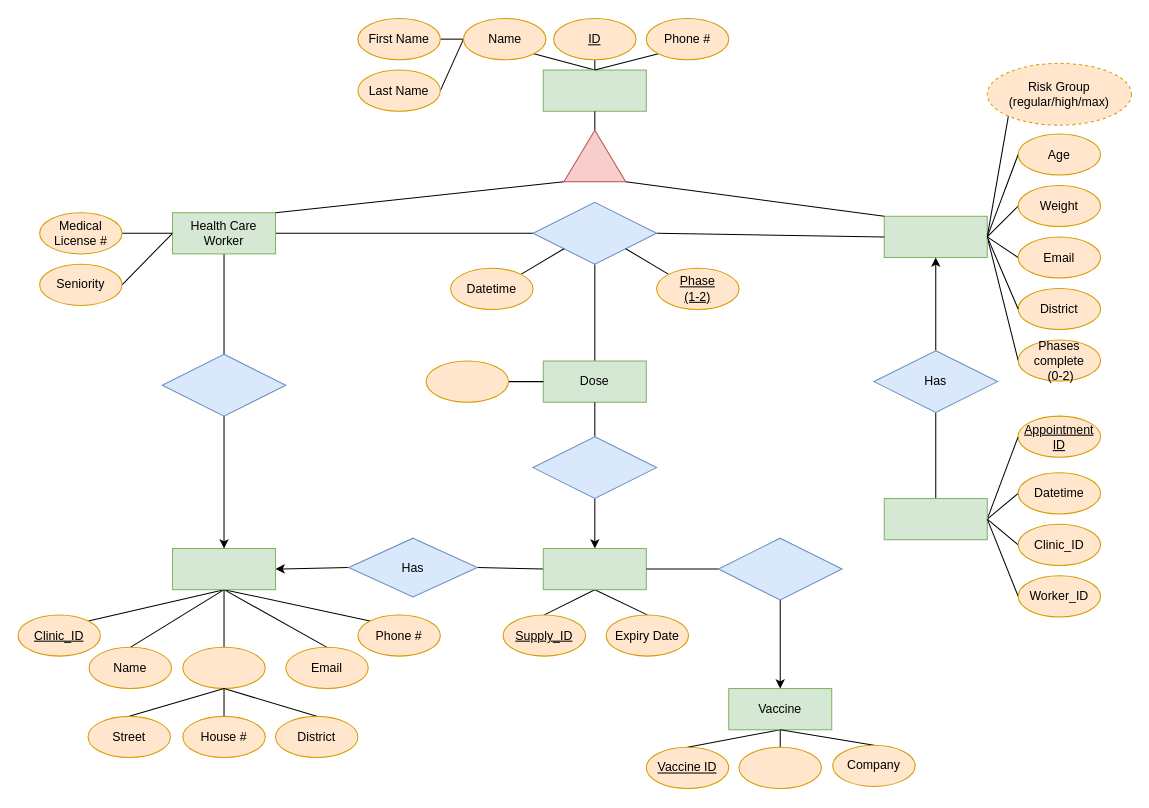
The diagram is 1149 pixels wide and 808 high, and some of its shapes have lost their labels. The shapes that lost their labels are listed below. From the top down, each one's box as (x1, y1, x2, y2) in pixels, then its label:
(542, 69, 646, 111): Person
(563, 129, 626, 182): ISA
(532, 201, 657, 264): Vaccinates
(883, 215, 987, 258): Citizen
(161, 353, 286, 416): Works In
(425, 360, 509, 402): Dose Barcode
(532, 436, 657, 499): From
(883, 497, 987, 540): Appointment
(171, 547, 276, 590): Clinic
(542, 547, 646, 590): Supply
(717, 537, 842, 600): Of
(182, 646, 265, 689): Address
(738, 746, 821, 788): Vaccine Name
